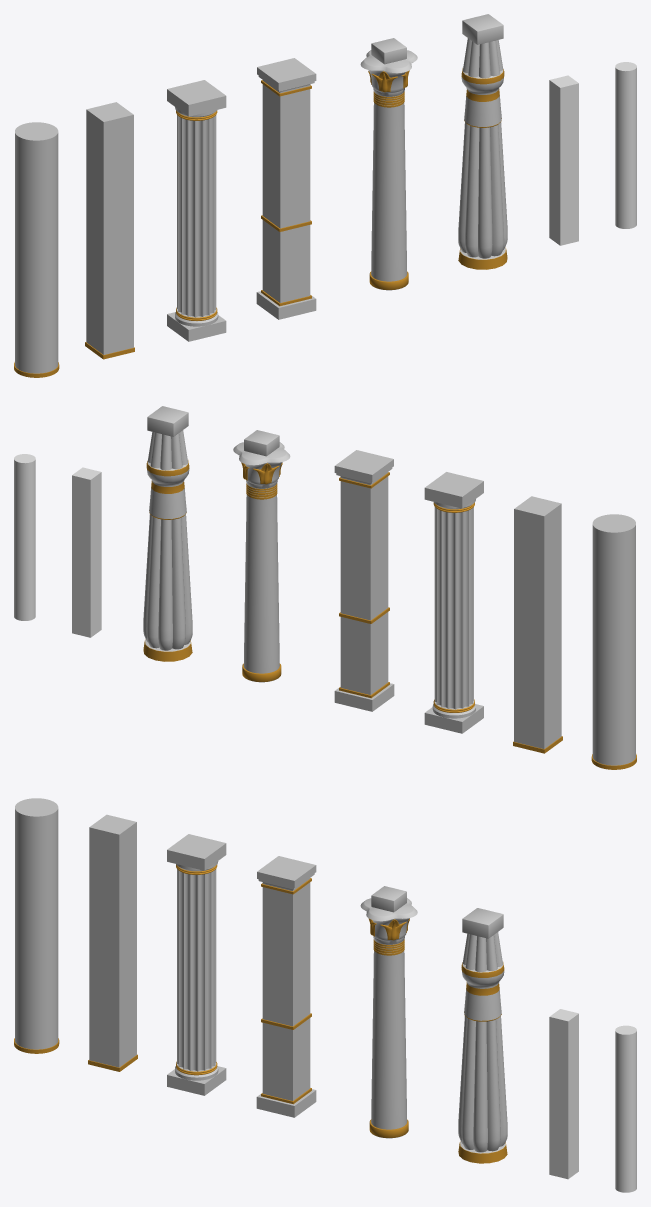
The model's file is Columns.fbx.
3 renders of one model, top to bottom at view 1: azimuth 30°, elevation 25°; view 2: azimuth 150°, elevation 25°; view 3: azimuth 330°, elevation 25°, orthographic.
Parts seen in each view (by area): view 1: Column_2, Column_5, Column_6, Column_1, Column_4, Column_3, Column_7, Column_8; view 2: Column_2, Column_5, Column_6, Column_1, Column_4, Column_3, Column_7, Column_8; view 3: Column_2, Column_5, Column_6, Column_1, Column_4, Column_3, Column_7, Column_8.
Part boxes in pixels (<box>): Column_2: <box>256,58,316,319</box>; Column_5: <box>85,102,134,359</box>; Column_6: <box>14,122,59,377</box>; Column_1: <box>167,80,226,341</box>; Column_4: <box>458,14,507,269</box>; Column_3: <box>360,38,417,290</box>; Column_7: <box>549,75,578,245</box>; Column_8: <box>615,62,636,228</box>; Column_2: <box>334,450,394,711</box>; Column_5: <box>513,496,562,753</box>; Column_6: <box>591,514,636,769</box>; Column_1: <box>424,472,483,733</box>; Column_4: <box>143,406,192,661</box>; Column_3: <box>233,430,290,682</box>; Column_7: <box>72,467,101,637</box>; Column_8: <box>14,454,35,620</box>; Column_2: <box>256,856,316,1117</box>; Column_5: <box>88,814,137,1071</box>; Column_6: <box>14,798,59,1053</box>; Column_1: <box>167,834,226,1095</box>; Column_4: <box>458,908,507,1163</box>; Column_3: <box>360,886,417,1138</box>; Column_7: <box>549,1009,578,1179</box>; Column_8: <box>615,1025,636,1192</box>.
Size of the model in its own units: 1640 by 600 by 141.
